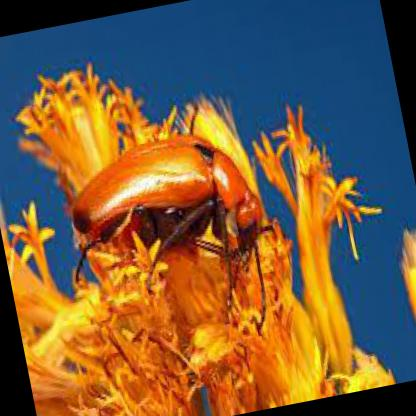blister beetle: (68, 135, 272, 314)
